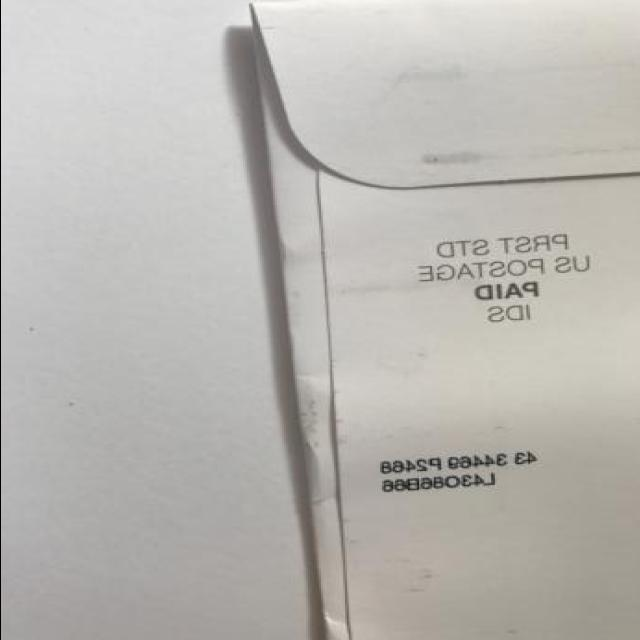kertas: (248, 0, 640, 640)
